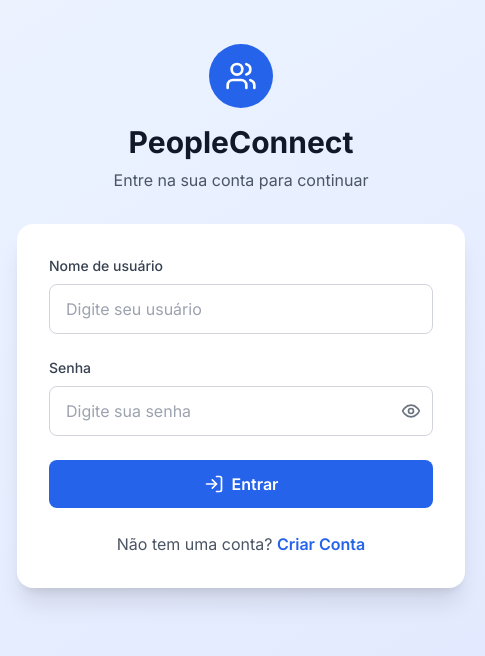
Test case: LoginPage › deve validar campos obrigatórios
This screenshot has width=485, height=656.
Click the button "Entrar" at (241, 484), box x1=49 y1=460 x2=433 y2=508
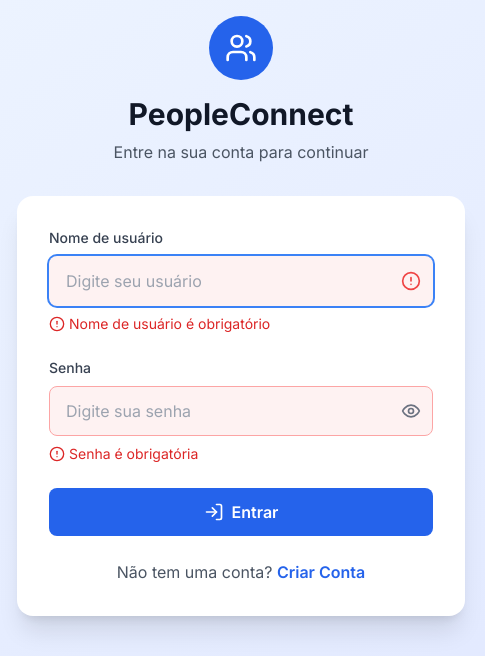
Check: the text "Nome de usuário é obrigatório" is shown, box x1=49 y1=315 x2=270 y2=332
Check: the text "Senha é obrigatória" is shown, box x1=49 y1=445 x2=198 y2=462
